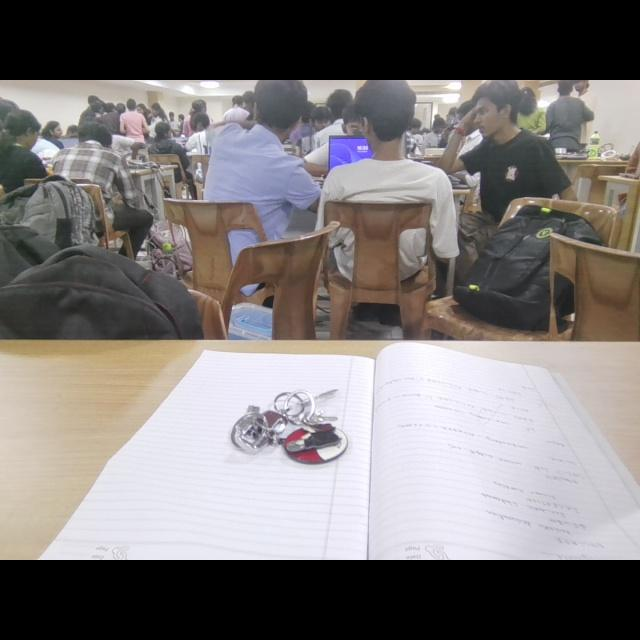keys: (222, 372, 366, 476)
